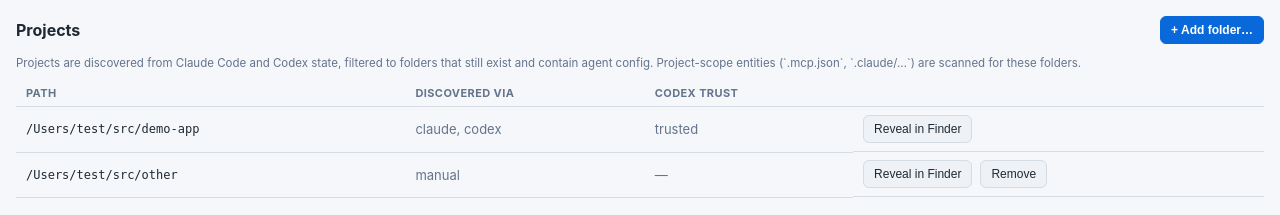
Test: ProjectsView › lists projects and only lets manually added ones be removed
Check: the row that starts with "/Users/test/src/demo-app" shows "claude, codex", box [415,121,502,137]
Check: the row that starts with "/Users/test/src/demo-app" shows "trusted", box [655,121,698,137]
Step 1. Click the button "Remove" → (1014, 174), box [980,160,1047,188]
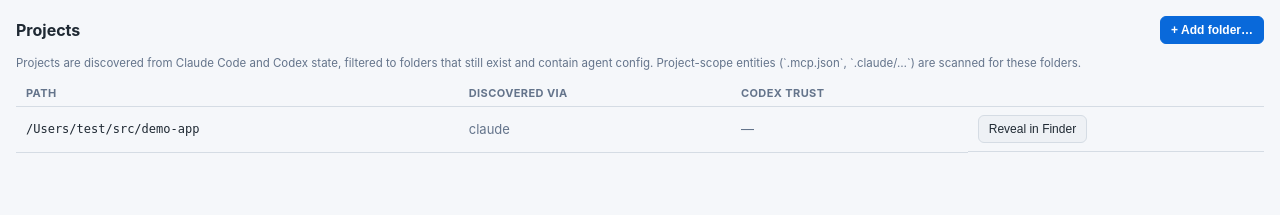
Check: the number of rows is 2, box [16,80,1264,106]; [16,106,1264,152]
